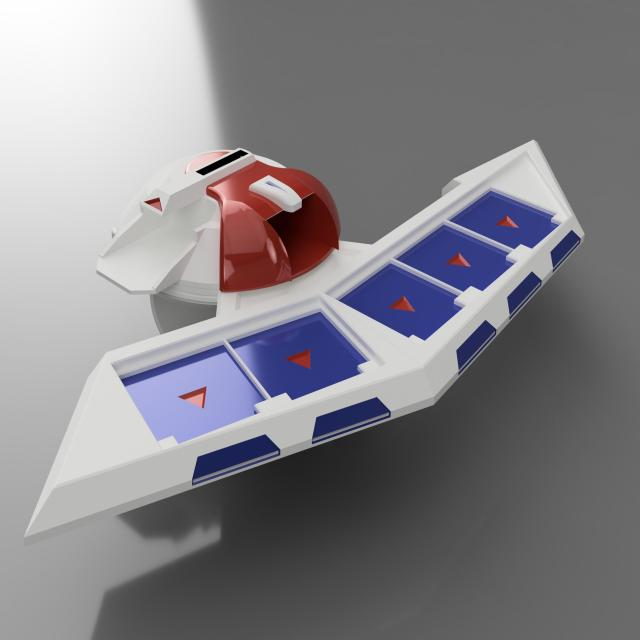Without deffect: (31, 98, 596, 561)
